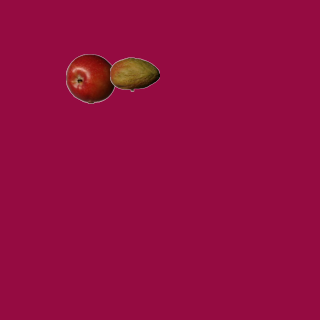Apple Braeburn: (65, 53, 115, 103)
Papaya: (109, 49, 159, 99)
